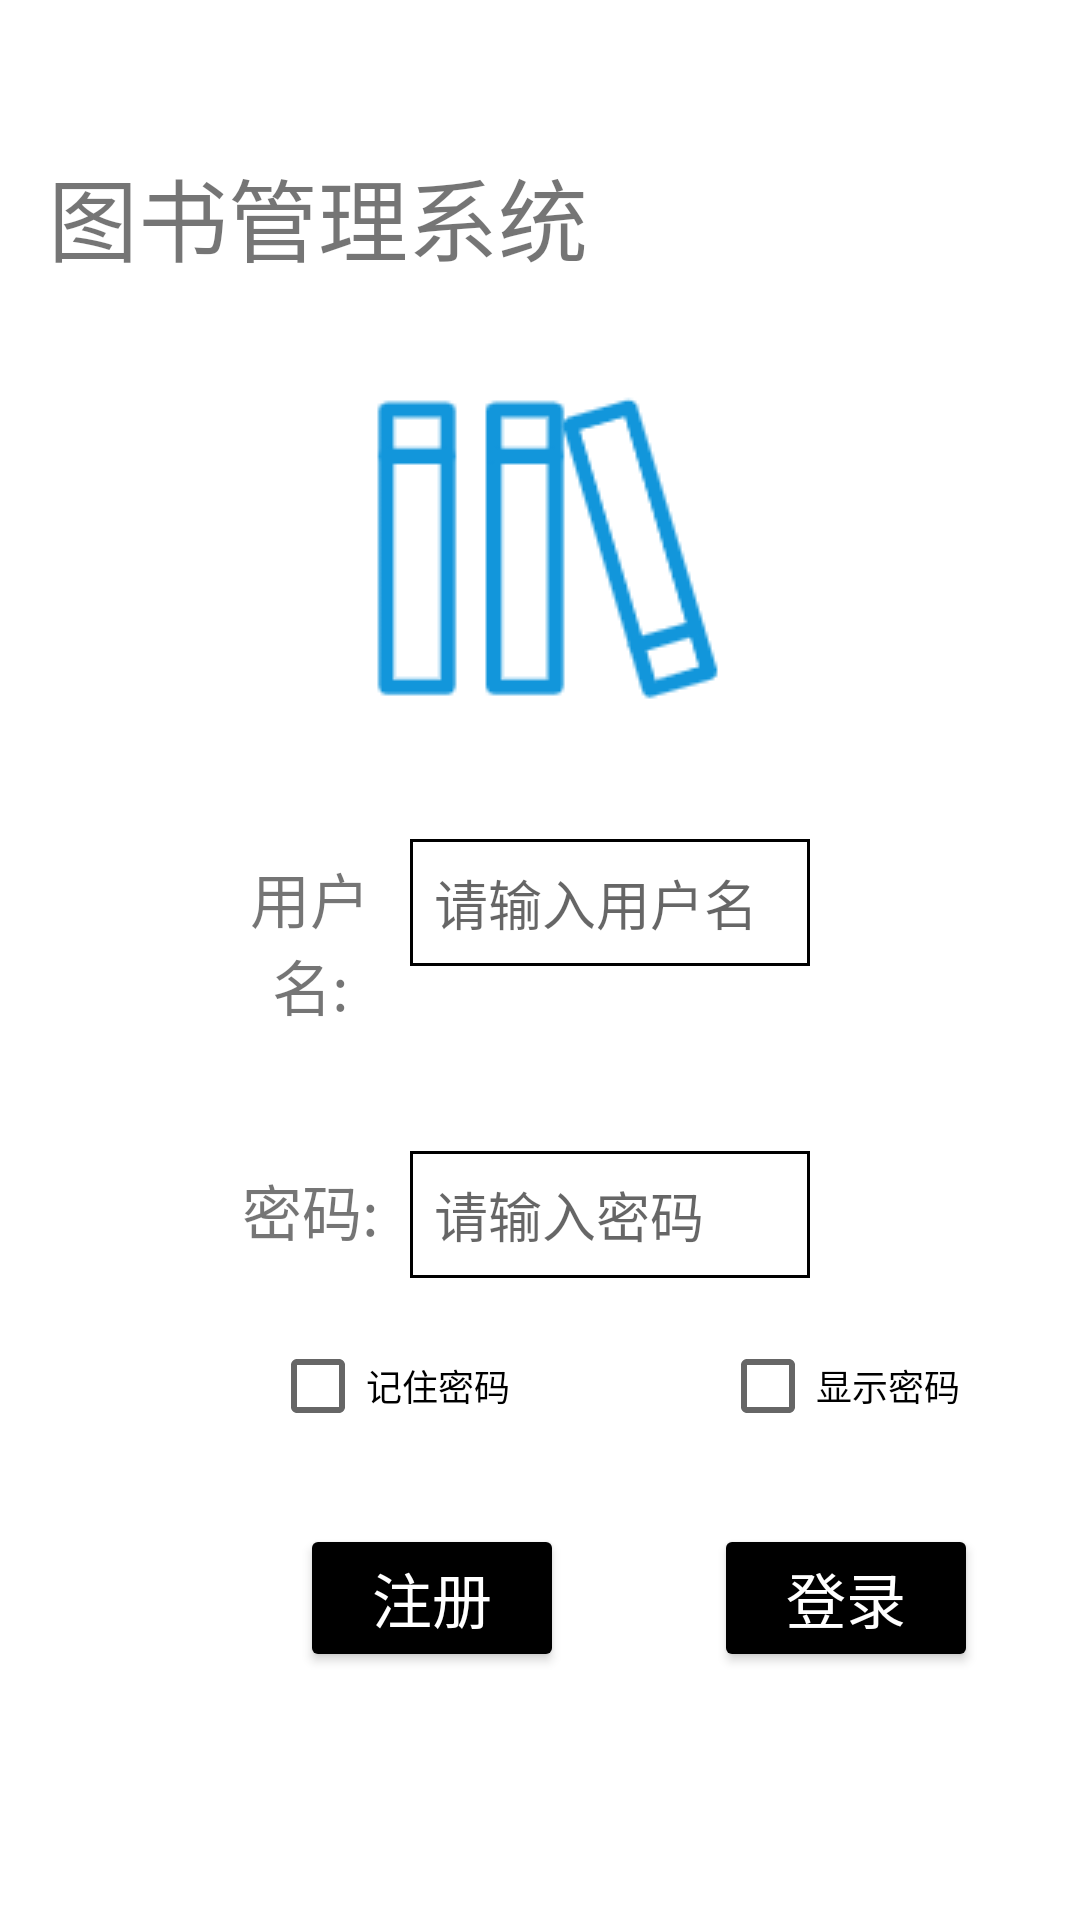

Where icons sit on this 1080w x 1920h app screen, as (x1, y1, x2, y2):
book: (377, 398, 718, 699)
